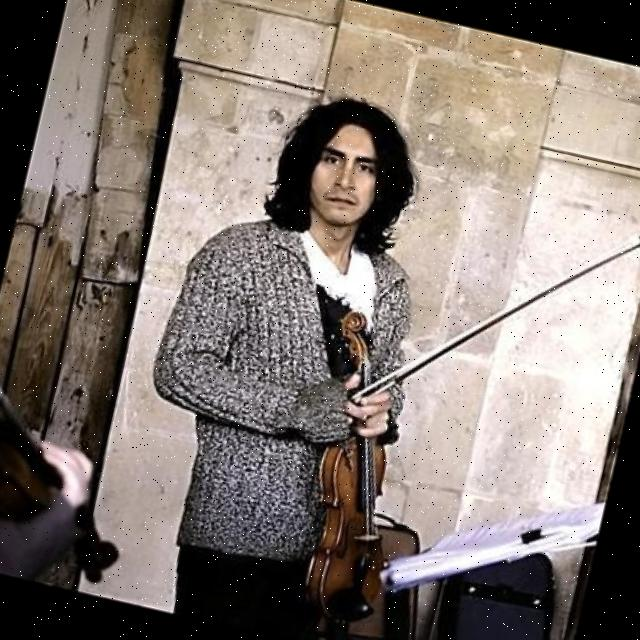violin: (271, 300, 450, 630)
